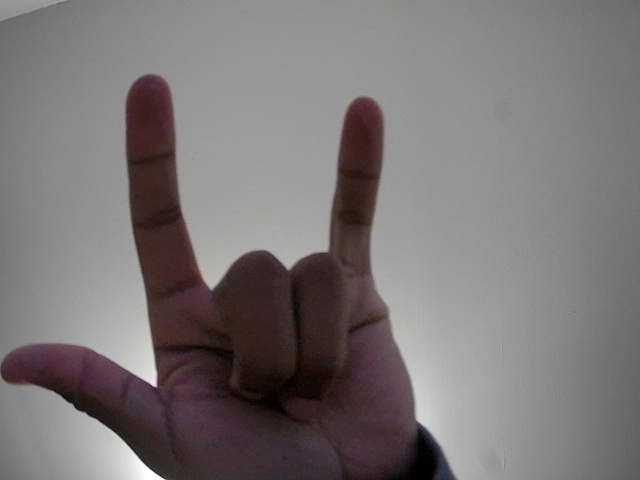ILoveYou: (1, 54, 463, 480)
